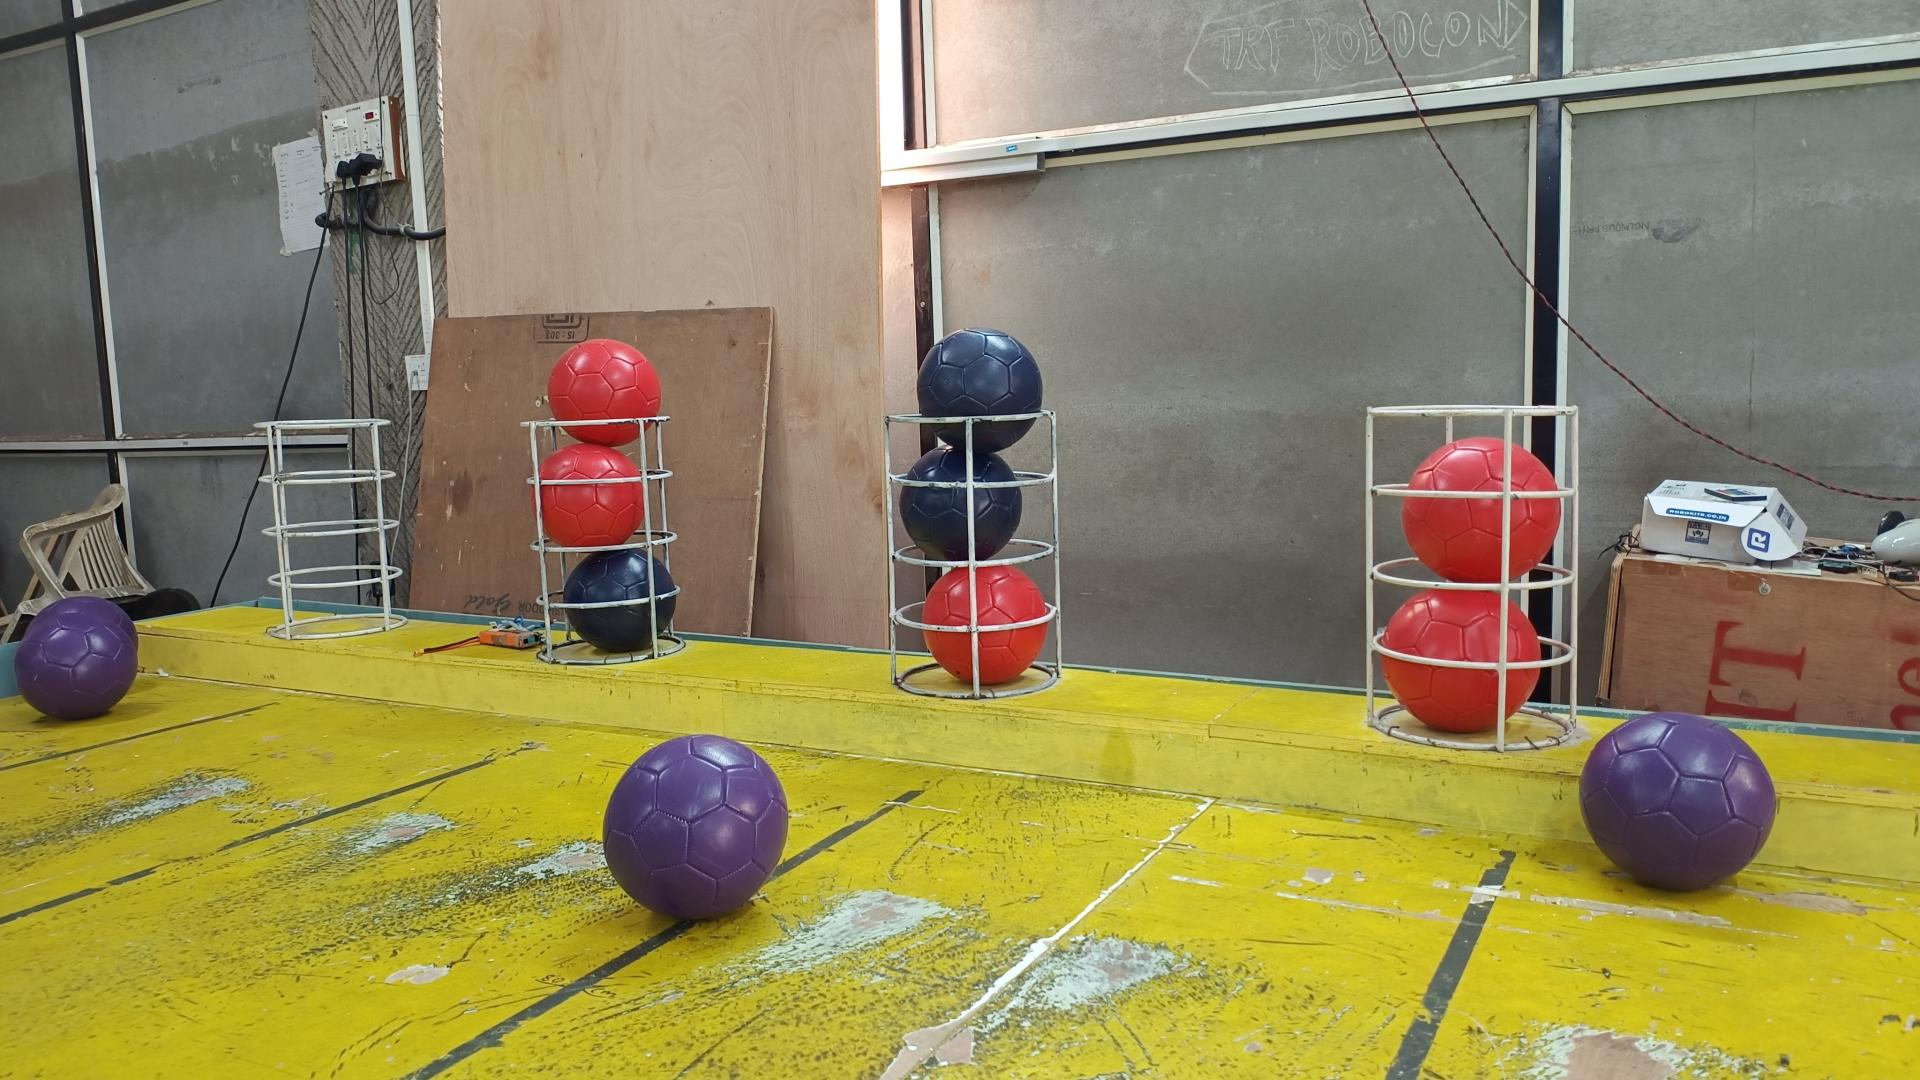dhoka: (916, 330, 1044, 454), (902, 444, 1025, 562), (563, 546, 679, 655)
laale: (1379, 585, 1542, 732), (1400, 435, 1561, 582), (922, 564, 1050, 684), (547, 339, 661, 447), (529, 442, 645, 547)
